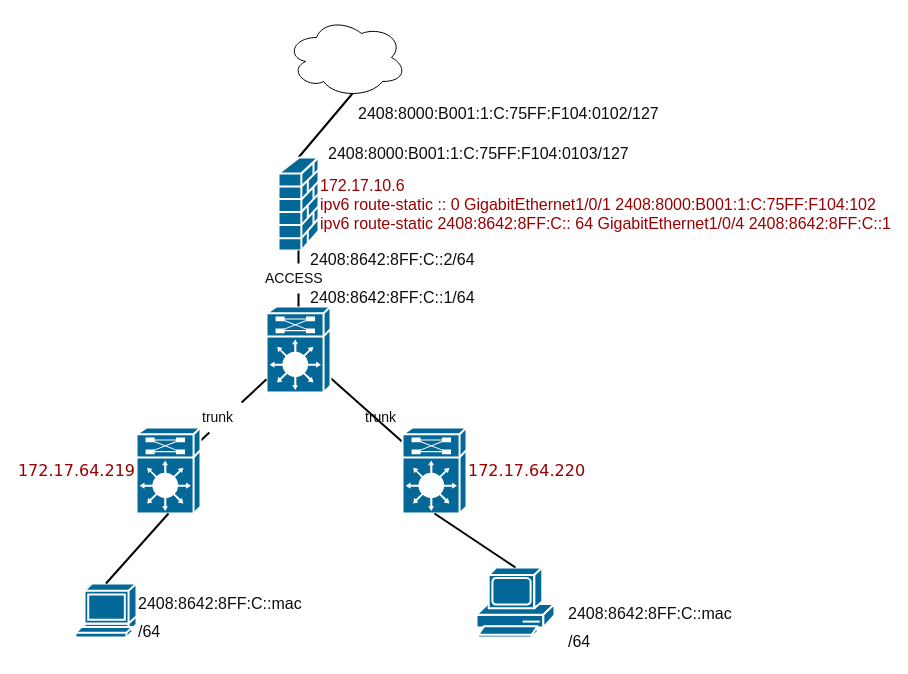
The diagram is 908 pixels wide and 674 high, and some of its shapes have lost their labels. The shapes that lost their labels are listed below. From the top down, each one's centre as x and y in pixels, then its label:
At pixel 346 57: "UNICOM".
At pixel 298 349: "172.17.10.1 ipv6 route-static :: 0 2408:8642:8FF:C::2".
